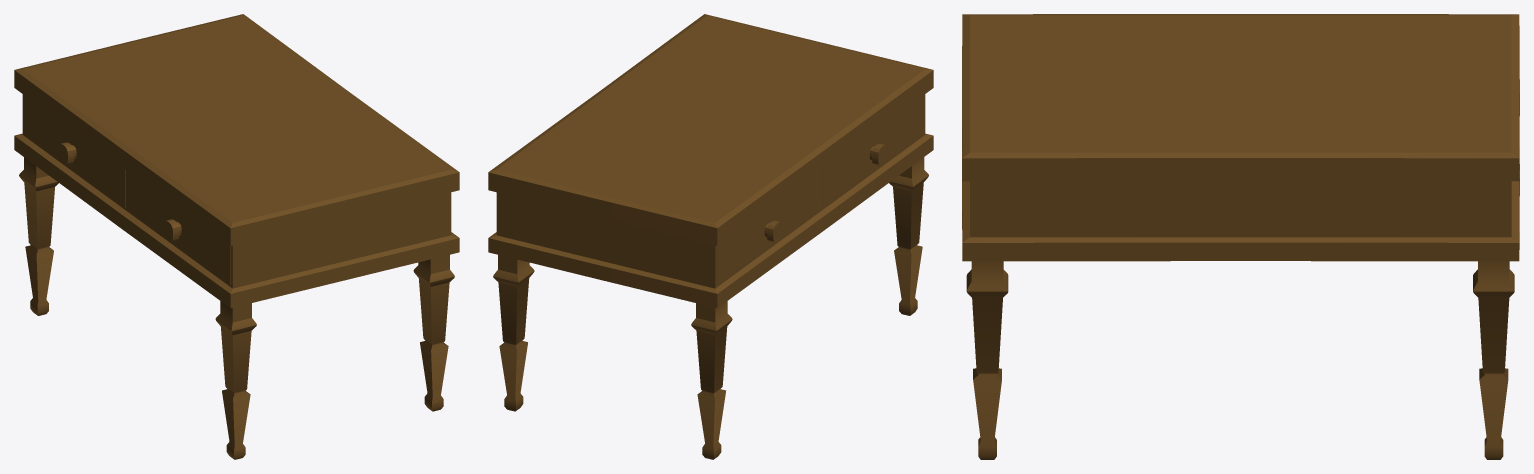
File: nursery side table.FBX
The picture shows the model from 3 angles, left to right: view 1: azimuth 30°, elevation 25°; view 2: azimuth 150°, elevation 25°; view 3: azimuth 270°, elevation 25°; orthographic projection. The views are drawn at different scales.
Visible parts, largest first — view 1: ThickSmall table; view 2: ThickSmall table; view 3: ThickSmall table.
Part boxes in pixels (bbox=[...]): ThickSmall table: bbox=[14, 14, 459, 459]; ThickSmall table: bbox=[488, 14, 933, 459]; ThickSmall table: bbox=[962, 14, 1519, 459].
Size of the model in its own units: 22.33 by 35.66 by 21.96.
